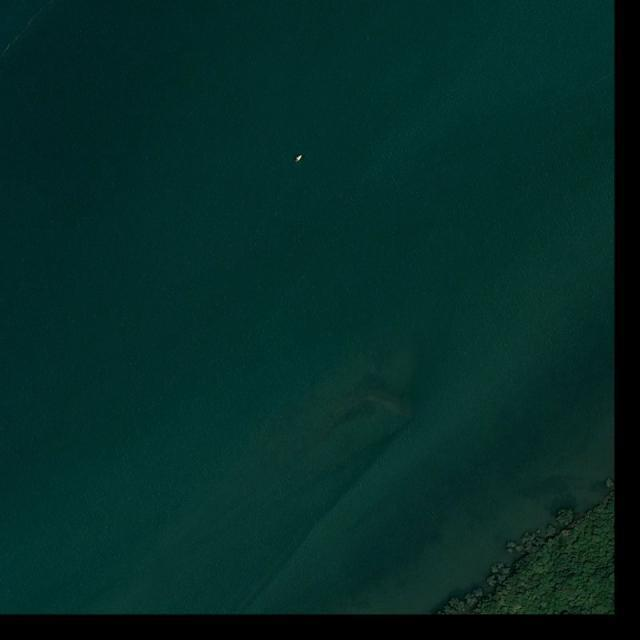ship: (294, 154, 304, 163)
